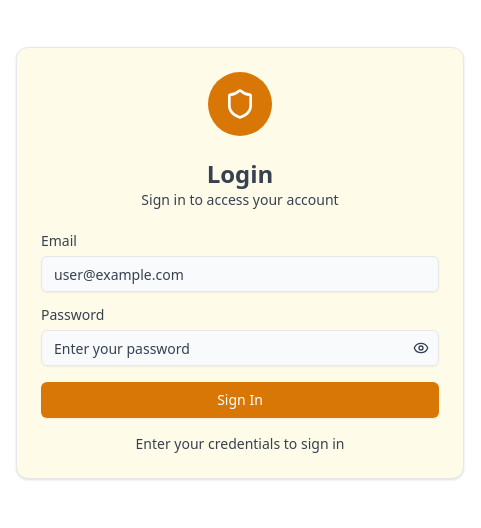
Test: Login Component › displays error message on network error
Type "test@example.com" into the field labelled "Email" at (240, 274), box [41,256,439,292]
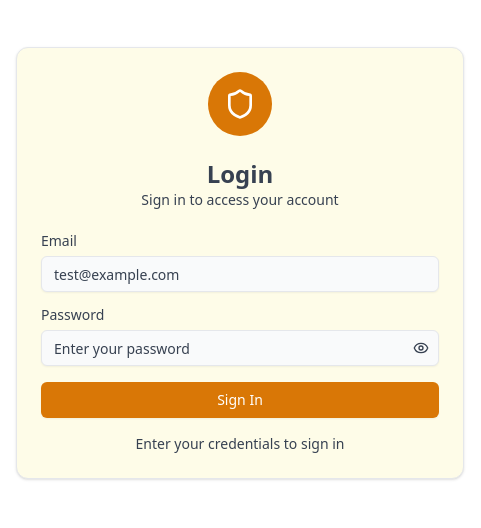
Type "password123" into the password field labelled "Password" at (240, 348), box [41,330,439,366]
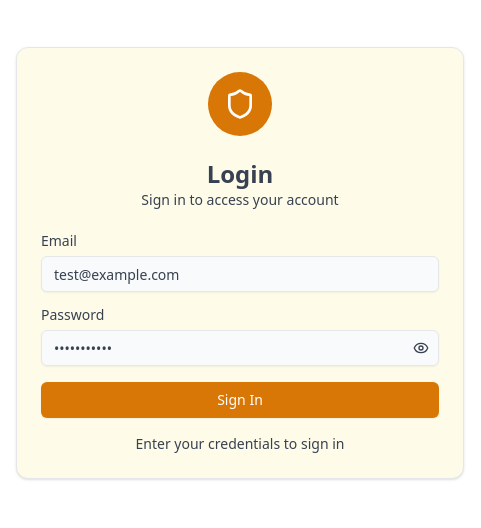
Click the button "Sign In" at (240, 400), box [41,382,439,418]
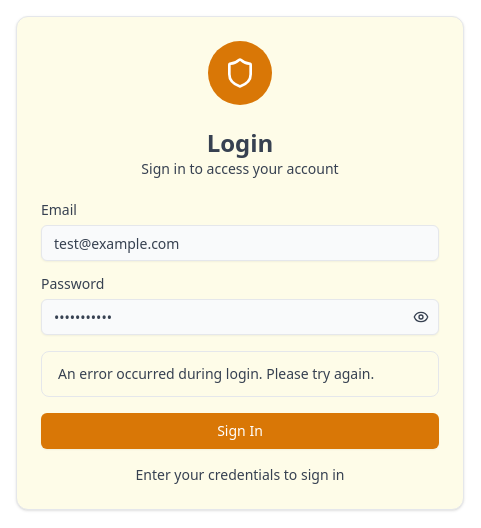
Now the text "An error occurred during login. Please try again." is shown, box [58,364,422,384]
